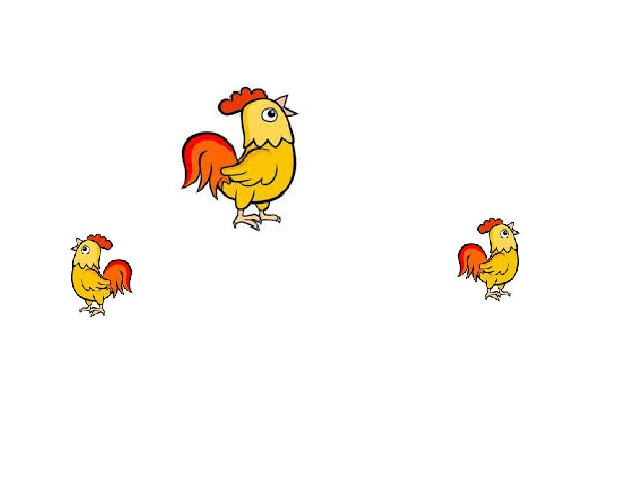crown: (215, 87, 265, 114), (477, 216, 502, 234), (91, 234, 115, 249)
eyes: (261, 105, 274, 124), (78, 245, 92, 253), (500, 230, 508, 238)
feet: (232, 208, 287, 234), (486, 290, 512, 303), (81, 304, 108, 316)
tail: (179, 134, 237, 195), (457, 244, 486, 281), (106, 259, 132, 297)
